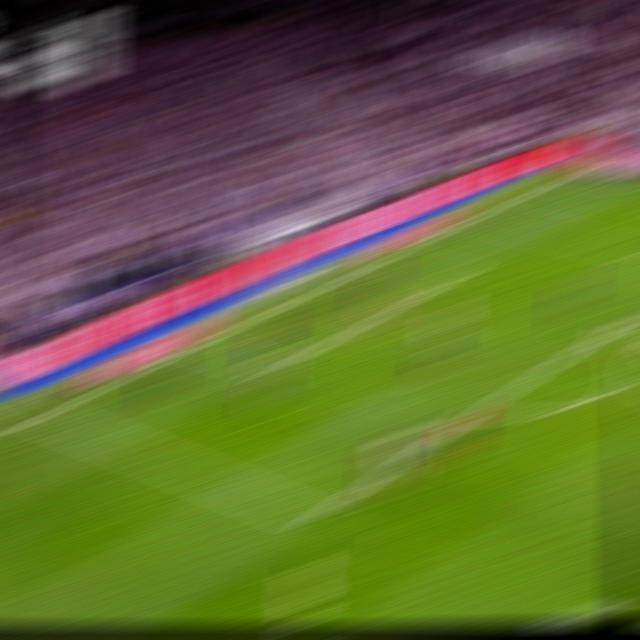bigarea_bottom_inner: (296, 507, 330, 530)
bigarea_bottom_outter: (28, 407, 62, 421)
bigarea_top_outter: (466, 211, 496, 220)
bottom_arc_area_intersection: (458, 402, 492, 424)
corner: (560, 170, 590, 174)
smallarea_top_inner: (444, 272, 472, 280)
